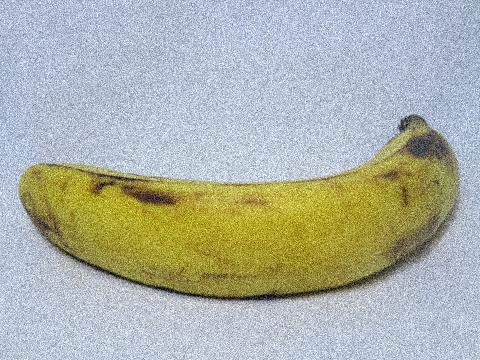ripe: (12, 101, 458, 315)
